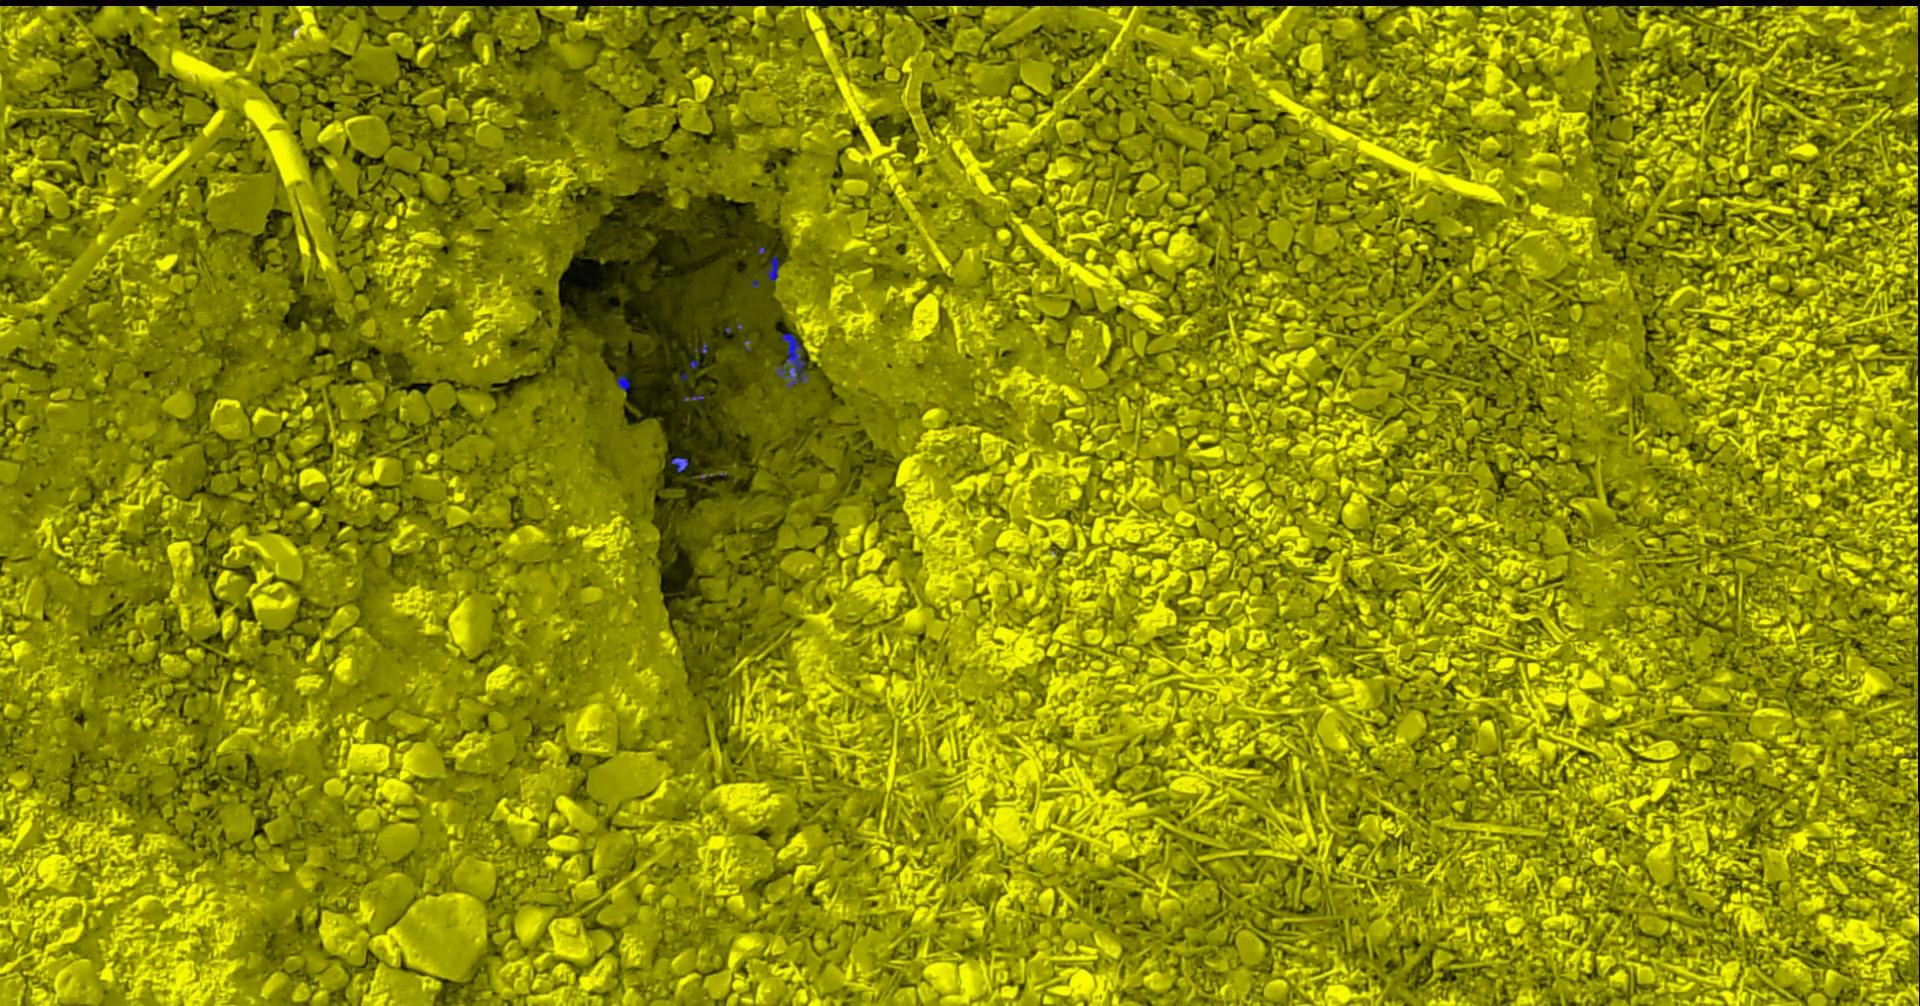ant: (775, 332, 808, 387), (766, 255, 778, 279), (670, 456, 688, 473), (616, 373, 629, 390)
